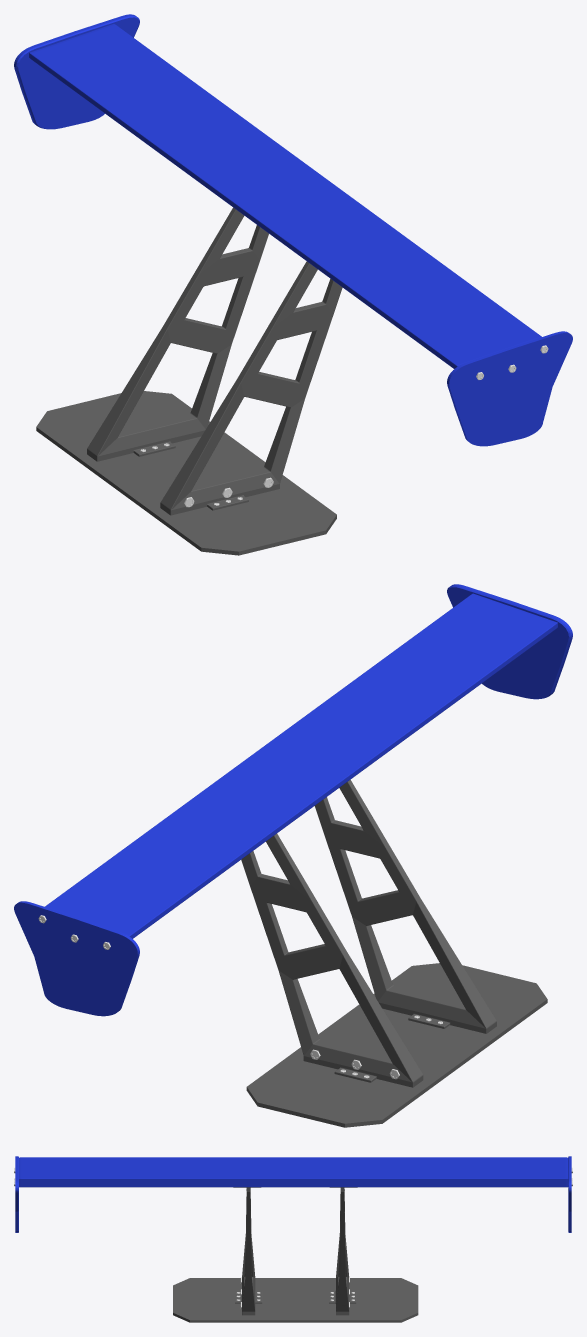
Rendered from spoiler.glb.
3 renders of one model, top to bottom at view 1: azimuth 30°, elevation 25°; view 2: azimuth 150°, elevation 25°; view 3: azimuth 270°, elevation 25°, orthographic. The views are drawn at different scales.
Visible parts, largest first — view 1: plate; view 2: plate; view 3: plate.
Part boxes in pixels (x1,y1,x2,y2): plate: (14, 14, 572, 555); plate: (14, 584, 572, 1127); plate: (14, 1156, 572, 1322).
Size of the model in its own units: 4.29 by 4.6 by 13.82.
